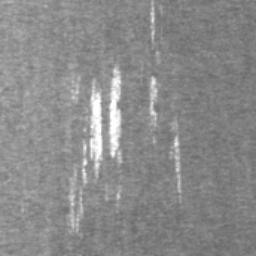White rust: (68, 78, 103, 234), (109, 63, 123, 165), (174, 131, 181, 203), (149, 76, 158, 127), (150, 0, 155, 52)
